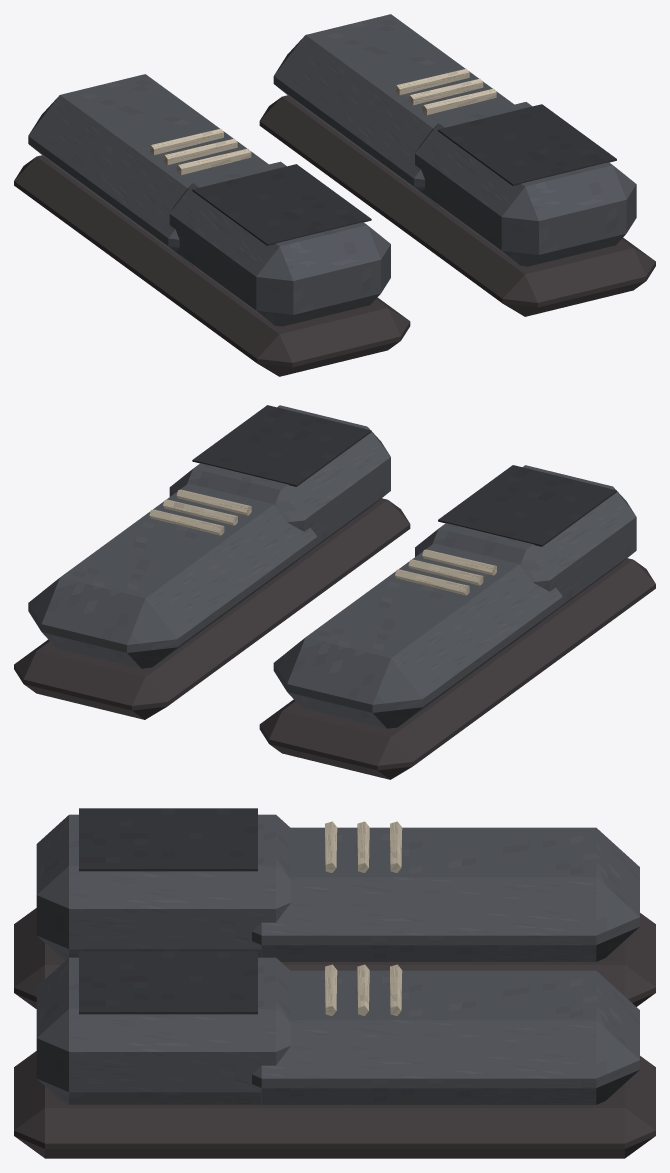
Rendered from dance_shoes.glb.
3 renders of one model, top to bottom at view 1: azimuth 30°, elevation 25°; view 2: azimuth 150°, elevation 25°; view 3: azimuth 270°, elevation 25°, orthographic. The views are drawn at different scales.
Parts seen in each view (by area): view 1: block_shaped sole (×2), block_vamp and toe (×2), block_shaft (×2), block_opening (×2), block_lace (×6); view 2: block_vamp and toe (×2), block_shaped sole (×2), block_shaft (×2), block_opening (×2), block_lace (×6); view 3: block_vamp and toe (×2), block_shaft (×2), block_shaped sole (×2), block_opening (×2), block_lace (×6).
Part boxes in pixels (box(x1,y1,x2,y2)): block_shaped sole (×2): box(14, 95, 655, 376); block_vamp and toe (×2): box(28, 14, 514, 266); block_shaft (×2): box(169, 102, 636, 326); block_opening (×2): box(192, 104, 616, 245); block_lace (×6): box(149, 68, 496, 175); block_vamp and toe (×2): box(28, 483, 562, 728); block_shaped sole (×2): box(14, 498, 655, 779); block_shaft (×2): box(169, 405, 636, 616); block_opening (×2): box(192, 405, 616, 546); block_lace (×6): box(149, 489, 496, 595); block_vamp and toe (×2): box(252, 827, 639, 1104); block_shaft (×2): box(36, 814, 291, 1104); block_shaped sole (×2): box(14, 908, 655, 1158); block_opening (×2): box(79, 808, 257, 1014); block_lace (×6): box(325, 821, 402, 1015).
Size of the model in its own units: 0.1941 by 0.0565 by 0.2267.
1 material, 1 textured.
